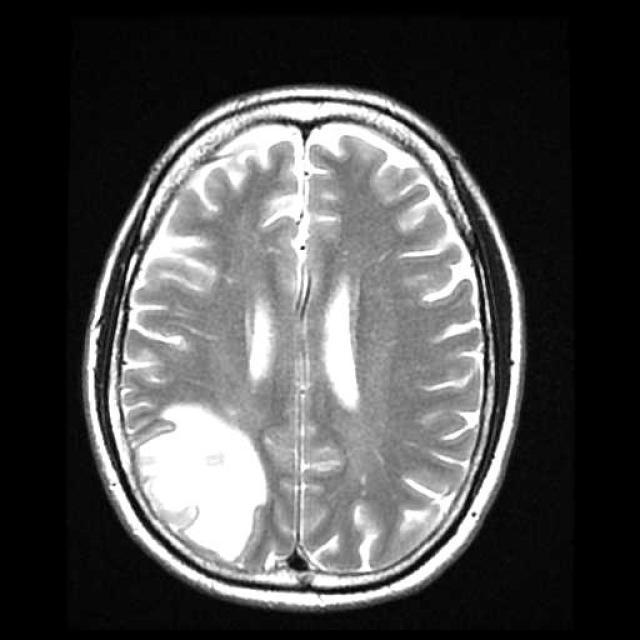tumor: (135, 405, 269, 568)
